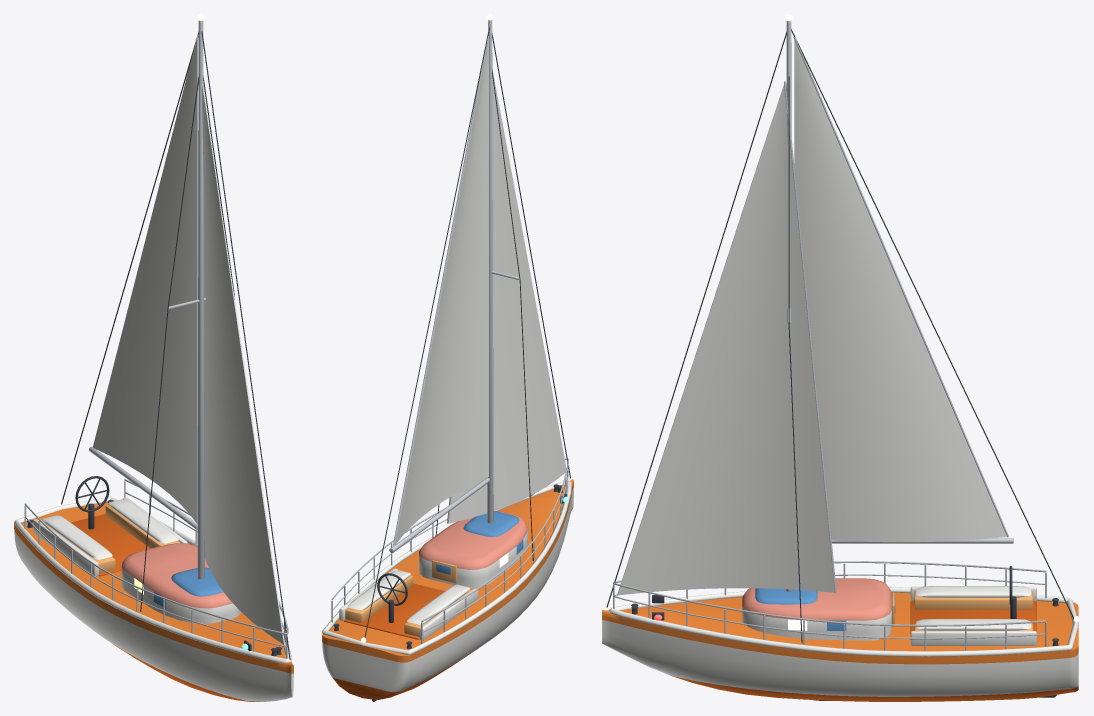
File: veleiro_branco.glb
3 renders of one model, left to right at view 1: azimuth 30°, elevation 25°; view 2: azimuth 150°, elevation 25°; view 3: azimuth 270°, elevation 25°, orthographic. The views are drawn at different scales.
Parts seen in each view (by area): view 1: veleiro_branco, vela_grande; view 2: veleiro_branco, vela_grande, porta_cabine; view 3: veleiro_branco, vela_grande.
Boxes of the visible parts, left/top/right/bottom form: veleiro_branco: left=14, top=14, right=293, bottom=701; vela_grande: left=89, top=34, right=198, bottom=529; veleiro_branco: left=322, top=14, right=573, bottom=701; vela_grande: left=389, top=36, right=489, bottom=552; porta_cabine: left=432, top=560, right=456, bottom=583; veleiro_branco: left=602, top=14, right=1079, bottom=701; vela_grande: left=793, top=37, right=1013, bottom=543.
Bounding box in the file's own units: 3.02 × 14.57 × 9.2.
Materials: 6 (1 with a texture image).
